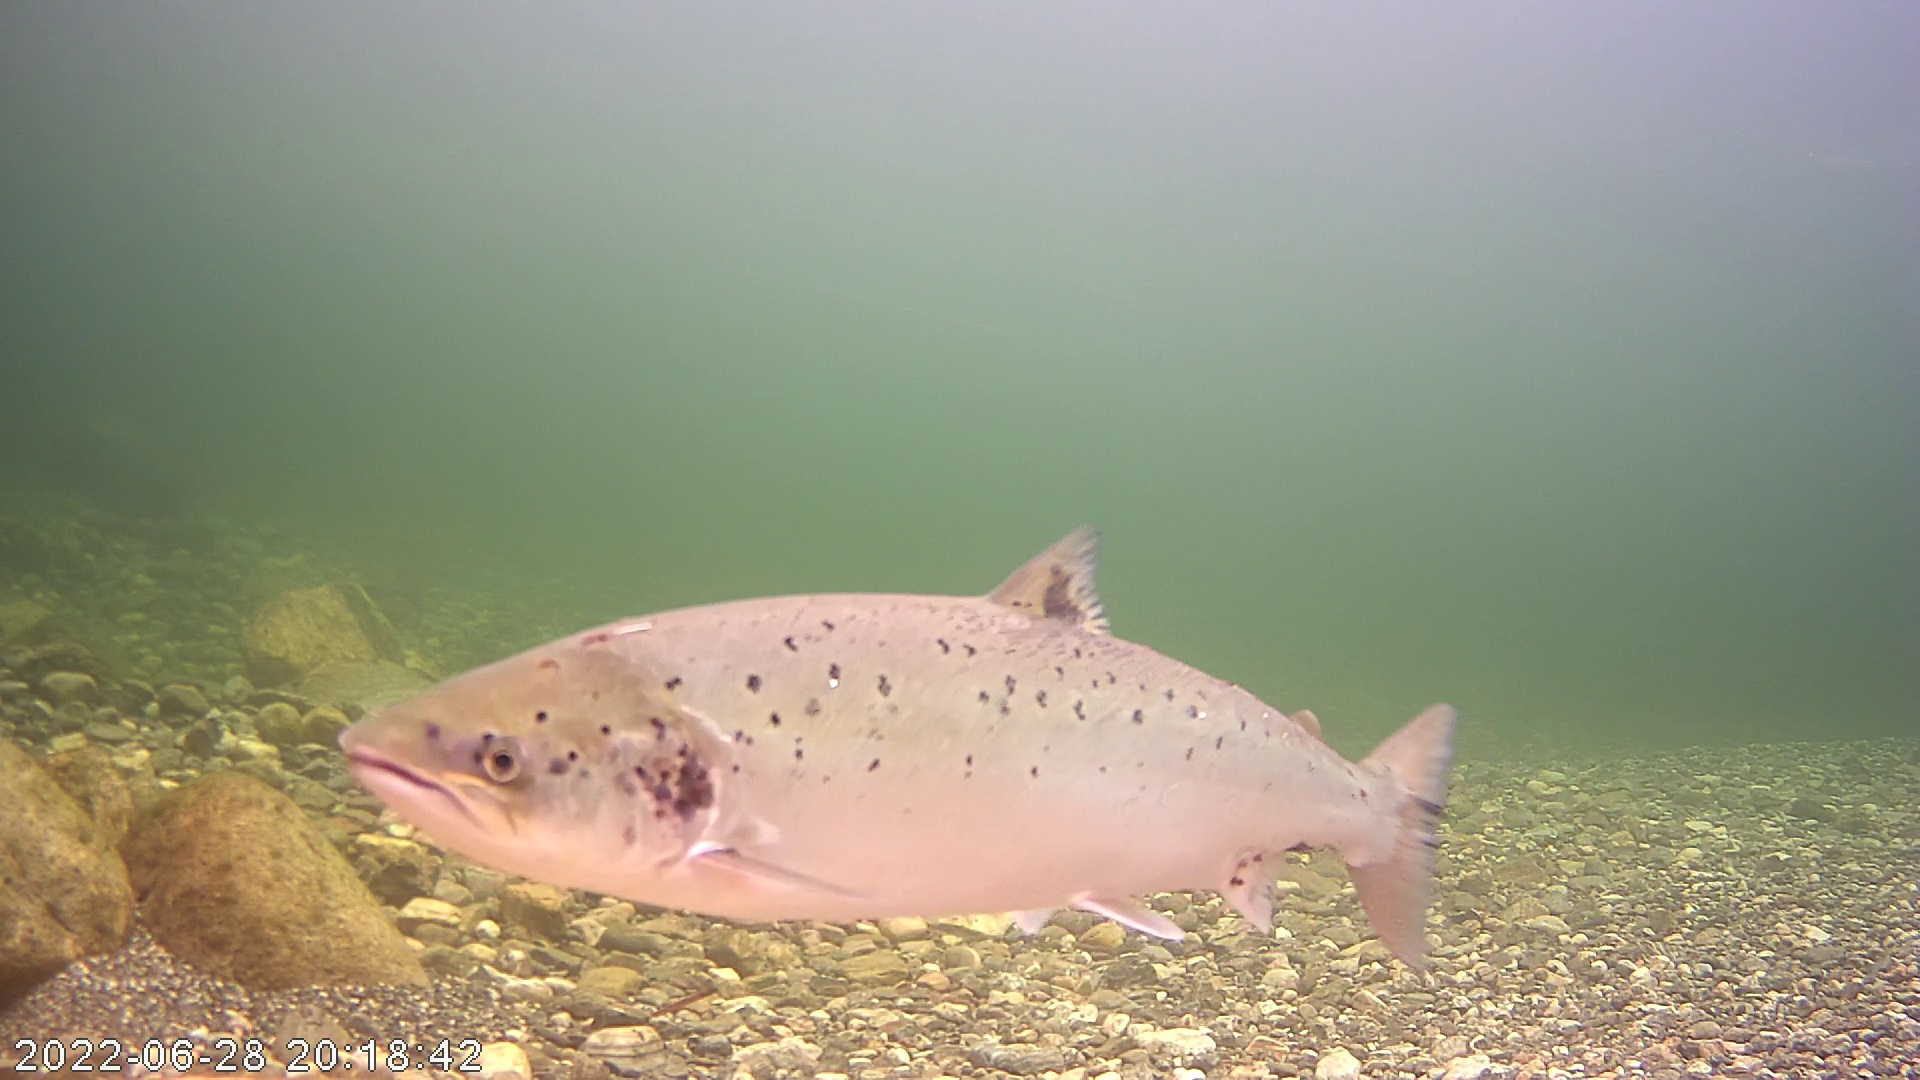salmon: (347, 452, 1476, 945)
